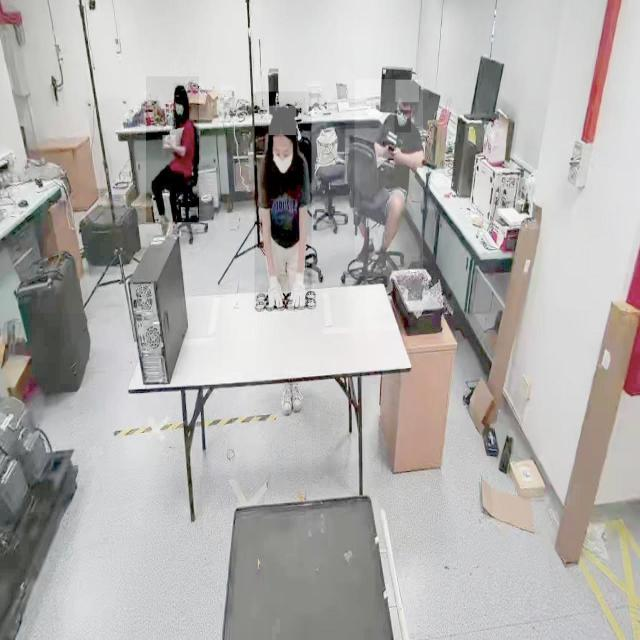face_mask: (272, 146, 294, 172), (395, 110, 411, 132), (174, 97, 187, 116)
hand_glove: (289, 272, 307, 309), (266, 278, 284, 311)
hand_noglove: (388, 145, 402, 163), (383, 141, 394, 160), (162, 135, 176, 149)
head_nohelmet: (269, 106, 297, 136), (396, 80, 420, 103), (173, 83, 187, 96)
person: (354, 79, 424, 277), (254, 92, 312, 310), (146, 77, 200, 223)
